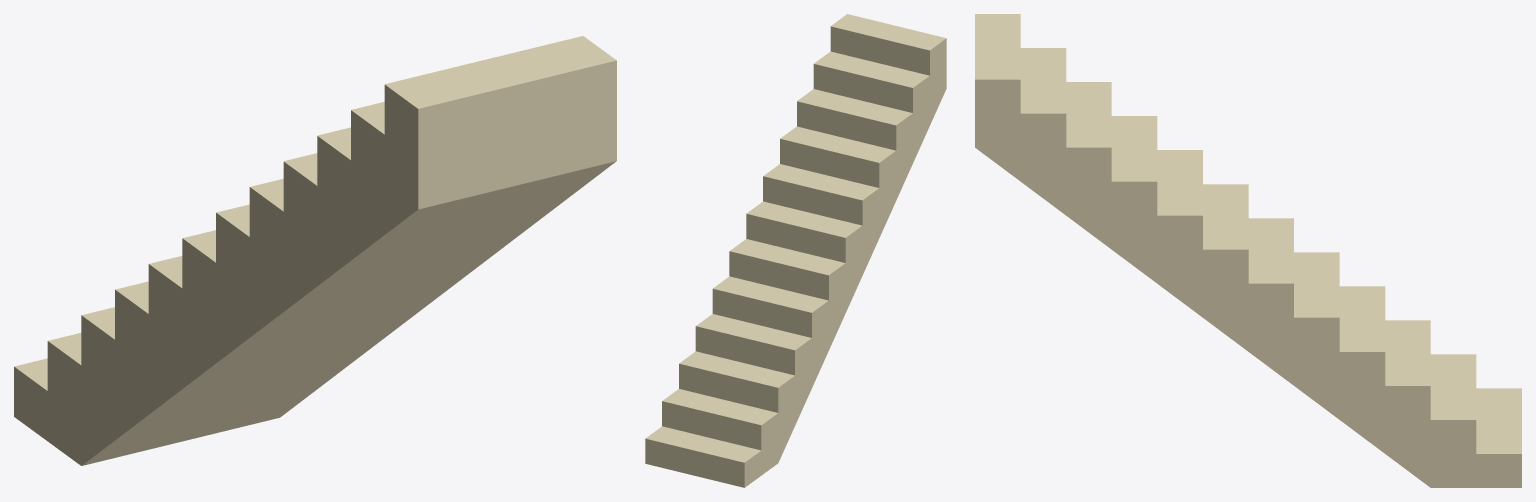
Rendered from stairsstoneslant.glb.
3 renders of one model, left to right at view 1: azimuth 30°, elevation 25°; view 2: azimuth 150°, elevation 25°; view 3: azimuth 270°, elevation 25°, orthographic. The views are drawn at different scales.
Visible parts, largest first — view 1: stairsStoneSlant; view 2: stairsStoneSlant; view 3: stairsStoneSlant.
Boxes of the visible parts, <box> form: stairsStoneSlant: <box>14,36,616,465</box>; stairsStoneSlant: <box>645,14,946,487</box>; stairsStoneSlant: <box>975,14,1521,487</box>.
Size of the model in its own units: 2.33 by 6.75 by 8.19.
